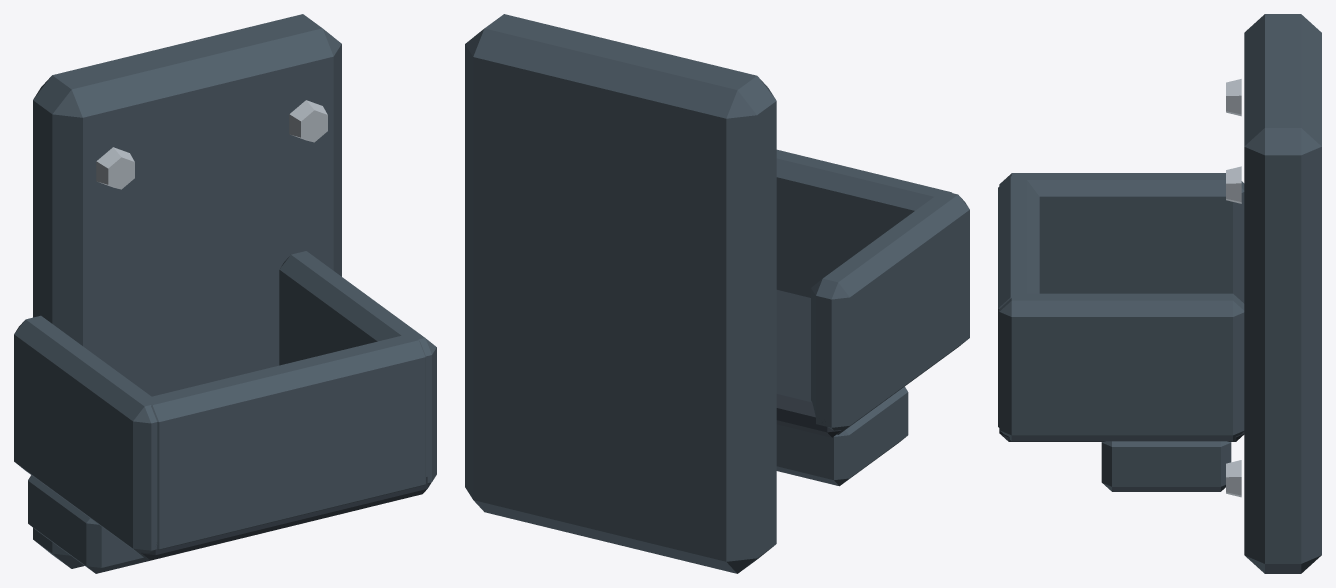
The model's file is Station_BasketDock.fbx.
3 renders of one model, left to right at view 1: azimuth 30°, elevation 25°; view 2: azimuth 150°, elevation 25°; view 3: azimuth 270°, elevation 25°, orthographic. The views are drawn at different scales.
Visible parts, largest first — view 1: Frame, FrameDark, SteelLight; view 2: Frame, FrameDark; view 3: Frame, SteelLight.
Part boxes in pixels (x1,y1,x2,y2): Frame: (14, 14, 436, 573); FrameDark: (141, 477, 430, 560); SteelLight: (96, 100, 327, 189); Frame: (465, 14, 969, 573); FrameDark: (776, 290, 841, 437); Frame: (998, 14, 1321, 573); SteelLight: (1226, 79, 1241, 497).
Size of the model in its own units: 1.43 by 1.9 by 1.25.
